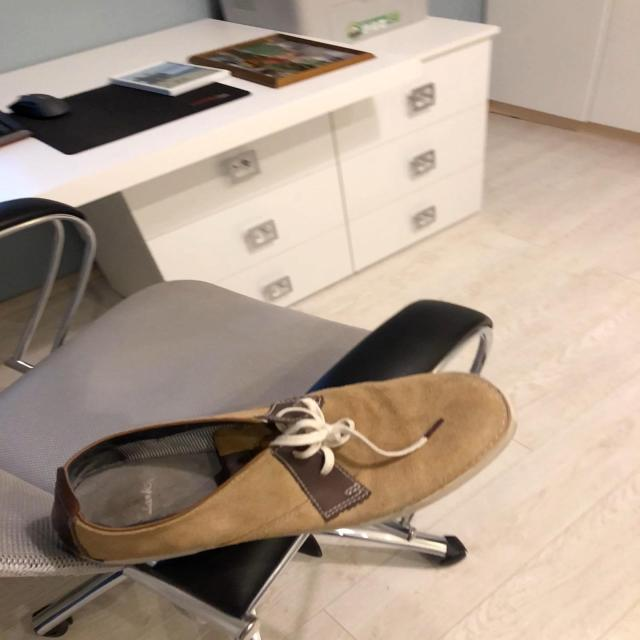shoe: (48, 367, 517, 570)
